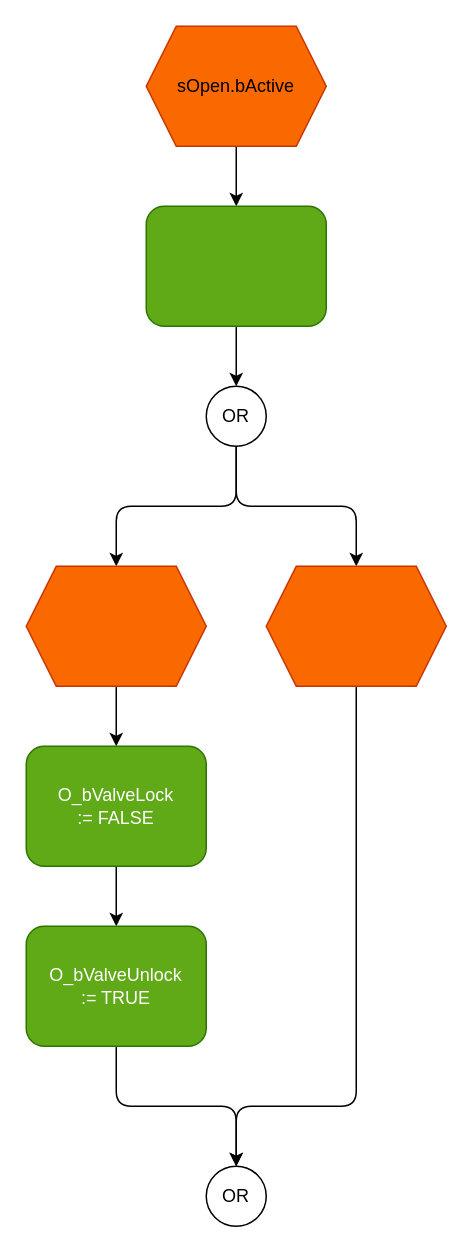
Some shapes in this 473 by 1253 pixel diagram are drawn without their labels. The centre of each missing label's shape, as x and y in pixels:
"FALSE" goes at (x=355, y=625).
"sOpen.bStart?" goes at (x=235, y=265).
"TRUE" goes at (x=115, y=625).
